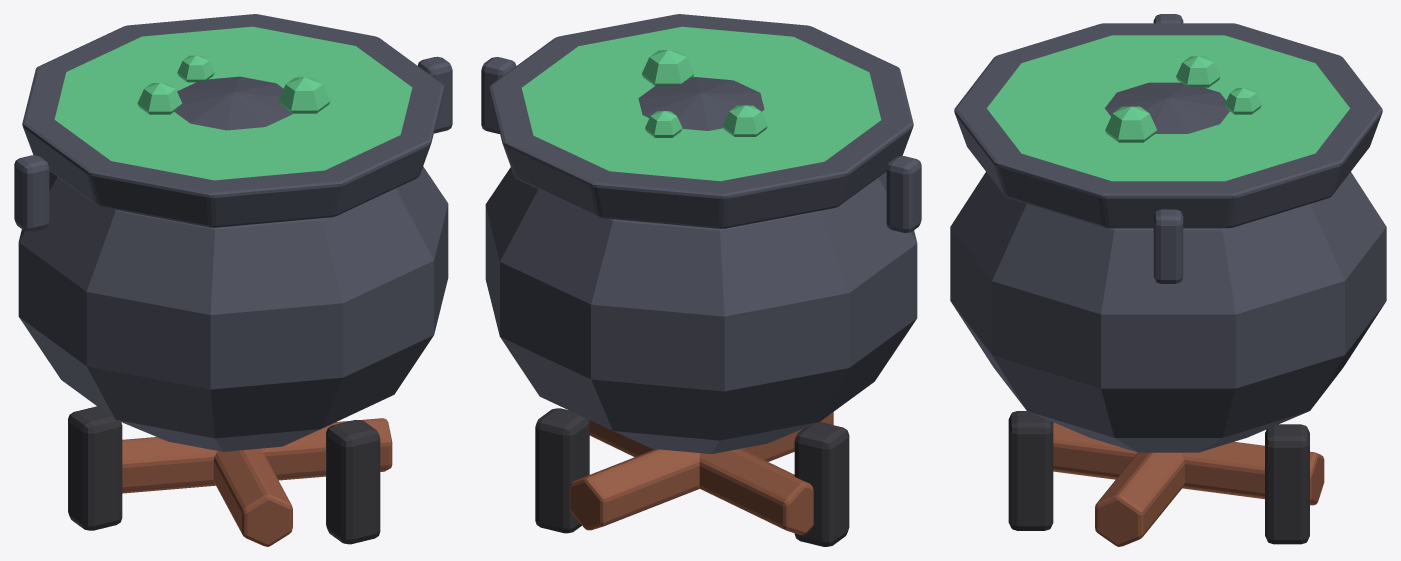
Rendered from cauldron.glb.
The picture shows the model from 3 angles, left to right: view 1: azimuth 30°, elevation 25°; view 2: azimuth 150°, elevation 25°; view 3: azimuth 270°, elevation 25°; orthographic projection.
Visible parts, largest first — view 1: cauldron, brew; view 2: cauldron, brew; view 3: cauldron, brew.
Part boxes in pixels (<box>): cauldron: <box>14,14,452,546</box>; brew: <box>54,26,412,180</box>; cauldron: <box>481,14,921,546</box>; brew: <box>521,26,881,181</box>; cauldron: <box>950,14,1386,546</box>; brew: <box>987,35,1349,181</box>.
Size of the model in its own units: 0.66 by 0.62 by 0.585.
Materials: 1 (1 with a texture image).
